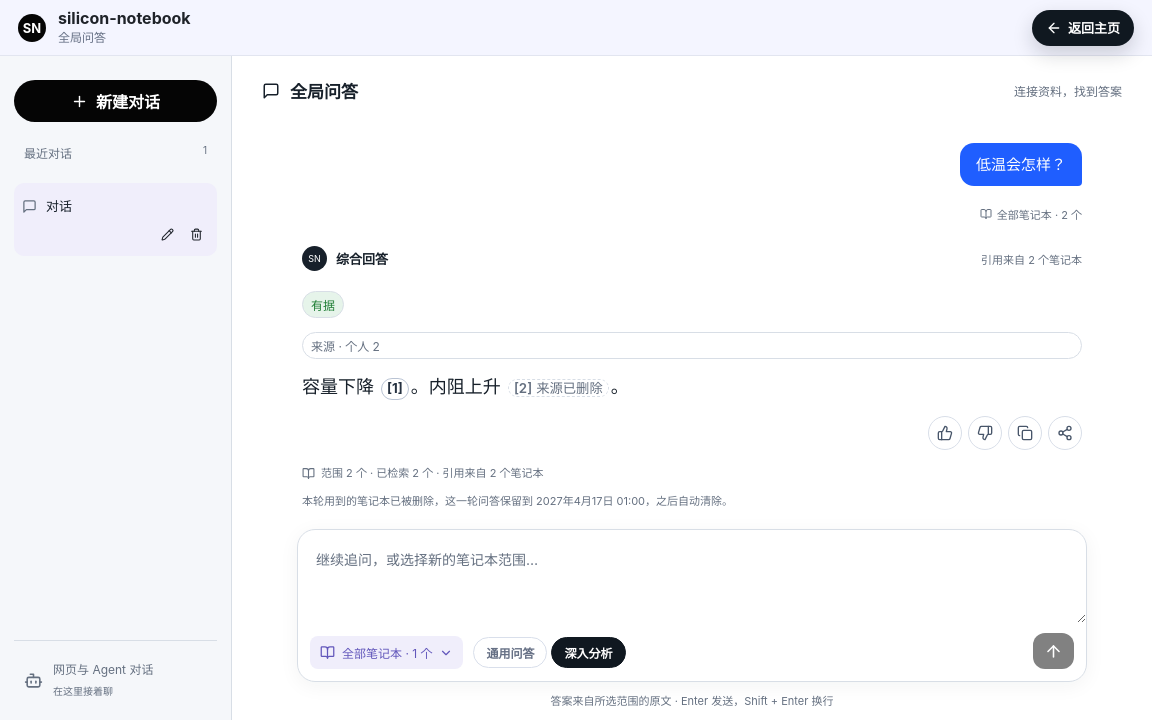
Scenario: a retained turn keeps its body and degrades only the deleted library's citation
expect the text "容量下降 [1] 。内阻上升 [2]来源已删除。" is shown: met, box left=302, top=376, right=629, bottom=400
What coordinates should you click on to do the following:
click the element with class "cite-chip-deleted"
I would click on:
 (558, 388)
Its box is left=508, top=379, right=609, bottom=397.
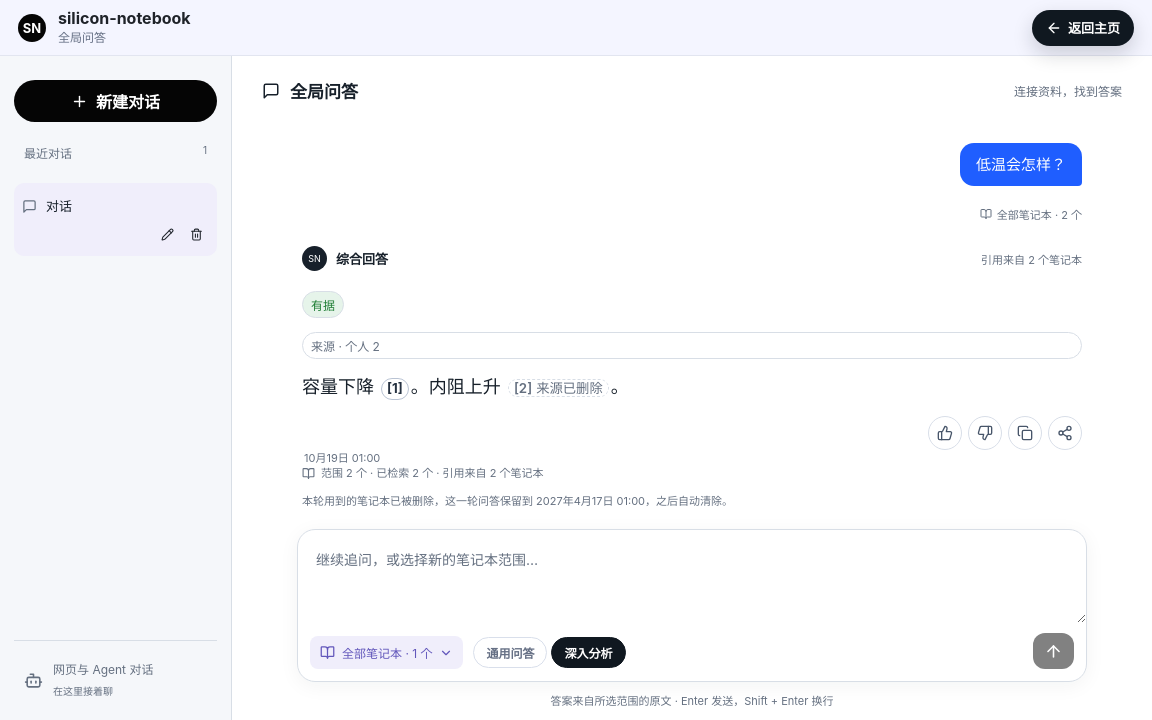
// The live library's marker still opens its card.
What coordinates should you click on to do the following:
click the button "[1]"
I would click on:
 (395, 389)
Its box is left=381, top=378, right=409, bottom=400.
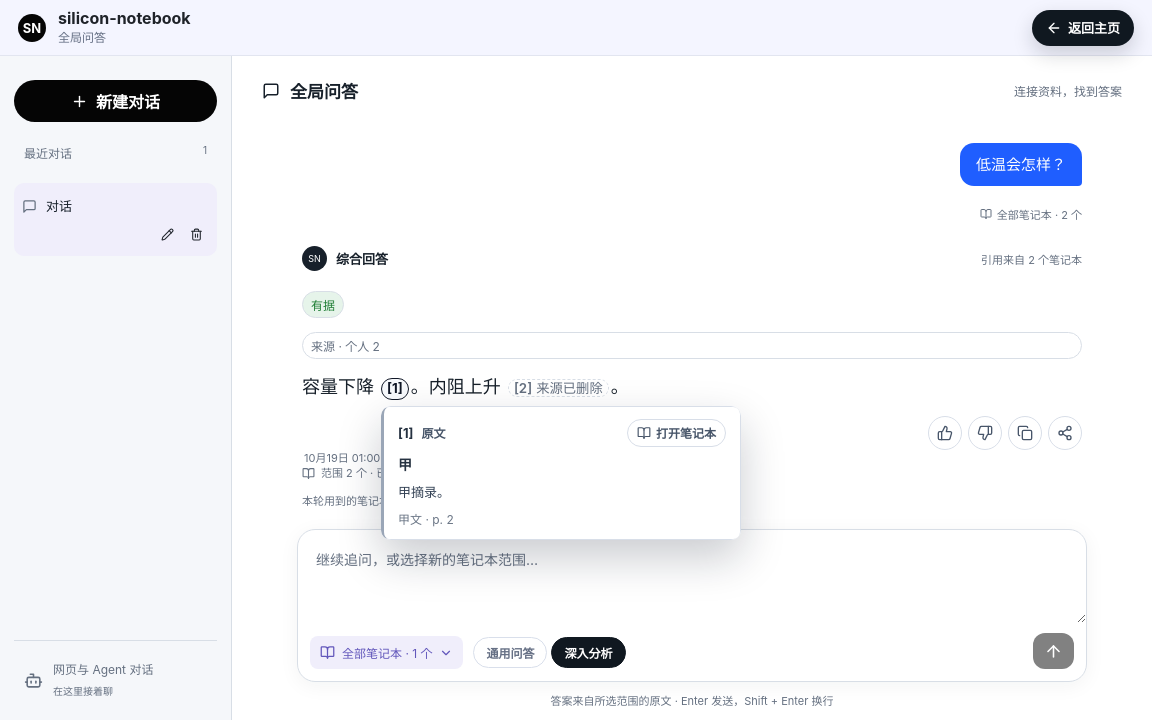
expect the text with class "global-retention-notice" reads "本轮用到的笔记本已被删除，这一轮问答保留到 2027年4月17日 01:00，之后自动清除。": met, box left=302, top=494, right=733, bottom=508
expect the dialog shows "甲摘录。": met, box left=398, top=484, right=450, bottom=500
